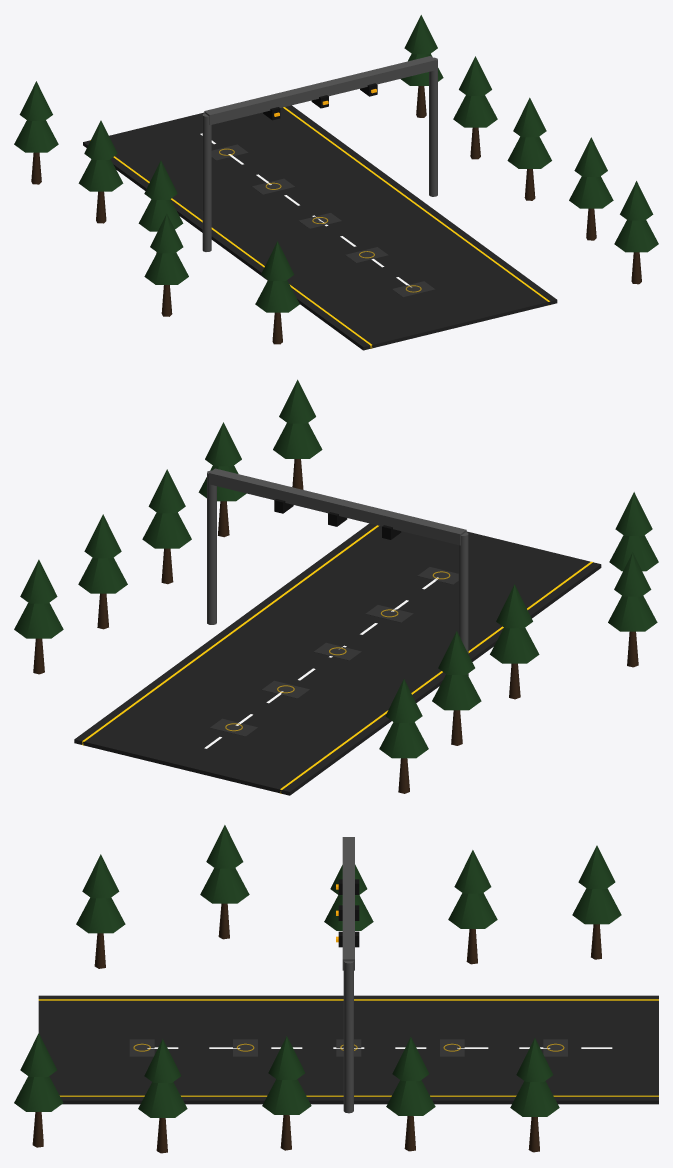
Rendered from smart-road.glb.
3 renders of one model, top to bottom at view 1: azimuth 30°, elevation 25°; view 2: azimuth 150°, elevation 25°; view 3: azimuth 270°, elevation 25°, orthographic. The views are drawn at different scales.
Bounding box in the file's own units: 26.58 × 8.21 × 31.2.
